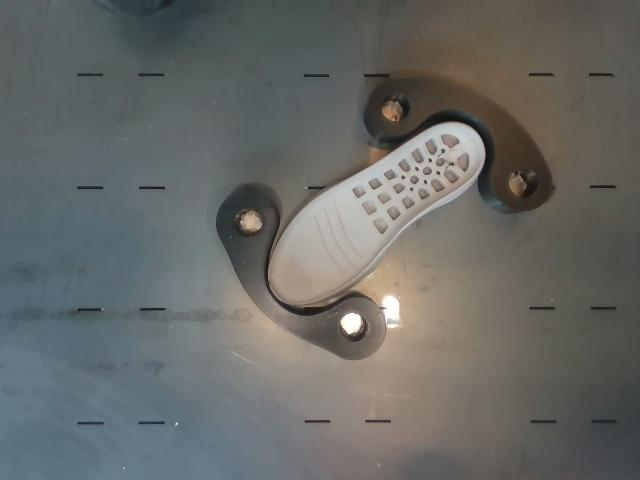shoes: (268, 122, 485, 303)
